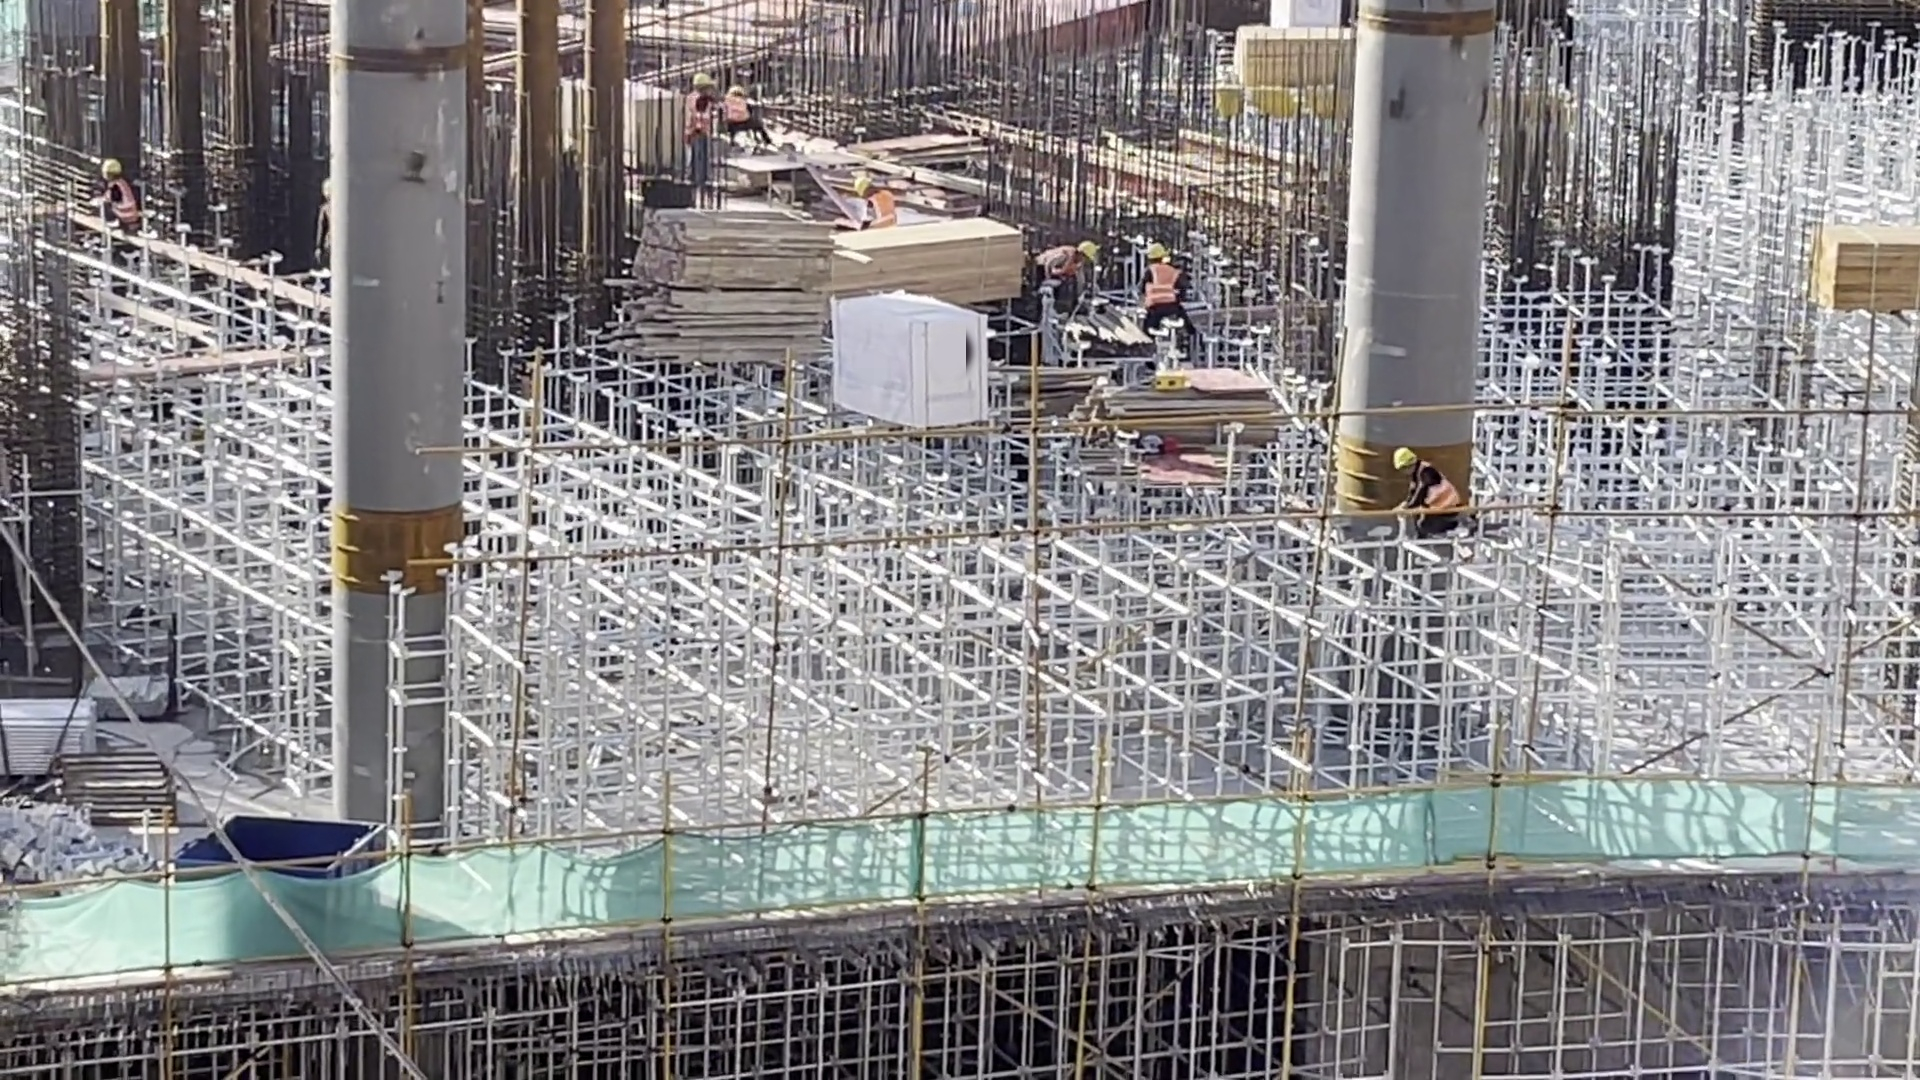helmet: (1390, 445, 1427, 475), (1078, 237, 1100, 270), (1142, 239, 1169, 260), (99, 155, 122, 174), (688, 73, 713, 89), (854, 175, 869, 193)
person: (1128, 241, 1205, 356), (1388, 442, 1470, 525), (1034, 235, 1098, 335), (686, 70, 723, 193), (97, 152, 137, 258), (724, 83, 777, 138), (853, 177, 901, 230)
vest: (1412, 476, 1466, 527), (1037, 243, 1079, 286), (685, 91, 715, 150), (1144, 263, 1182, 310), (108, 178, 138, 227), (722, 91, 753, 128), (866, 191, 896, 229)
